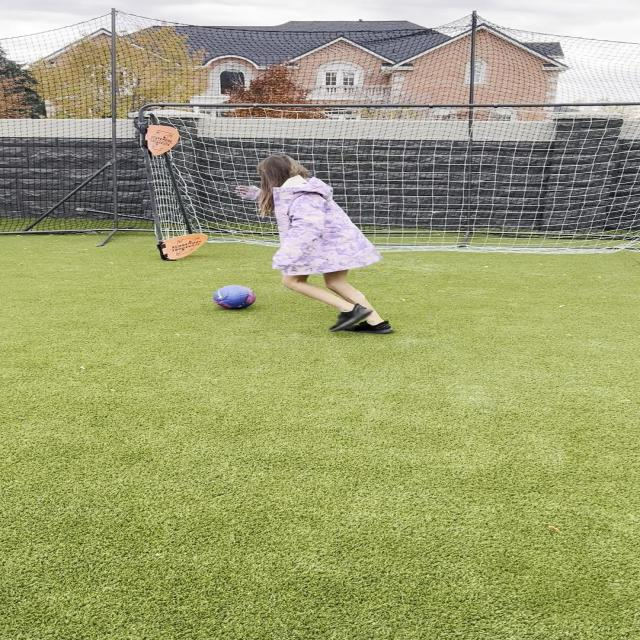Soccer Ball: (215, 285, 257, 310)
